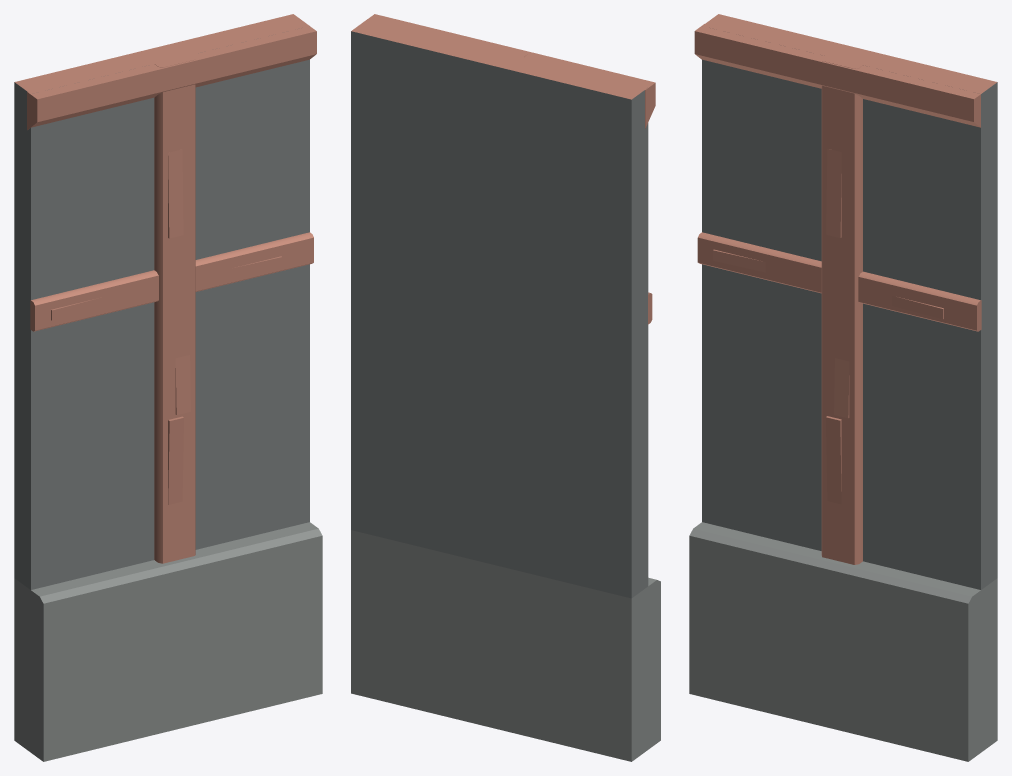
The model's file is Wall_01 1.fbx.
The picture shows the model from 3 angles, left to right: view 1: azimuth 30°, elevation 25°; view 2: azimuth 150°, elevation 25°; view 3: azimuth 330°, elevation 25°; orthographic projection.
Visible parts, largest first — view 1: Cube.001; view 2: Cube.001; view 3: Cube.001.
Boxes of the visible parts, left/top/right/bottom form: Cube.001: left=14, top=14, right=322, bottom=761; Cube.001: left=351, top=14, right=660, bottom=761; Cube.001: left=689, top=14, right=997, bottom=761.
Bounding box in the file's own units: 200 × 451 × 36.09.
